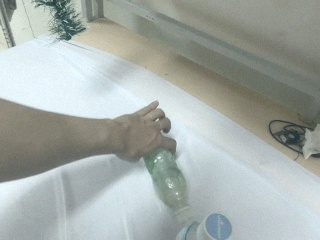bottle: (141, 132, 191, 212)
